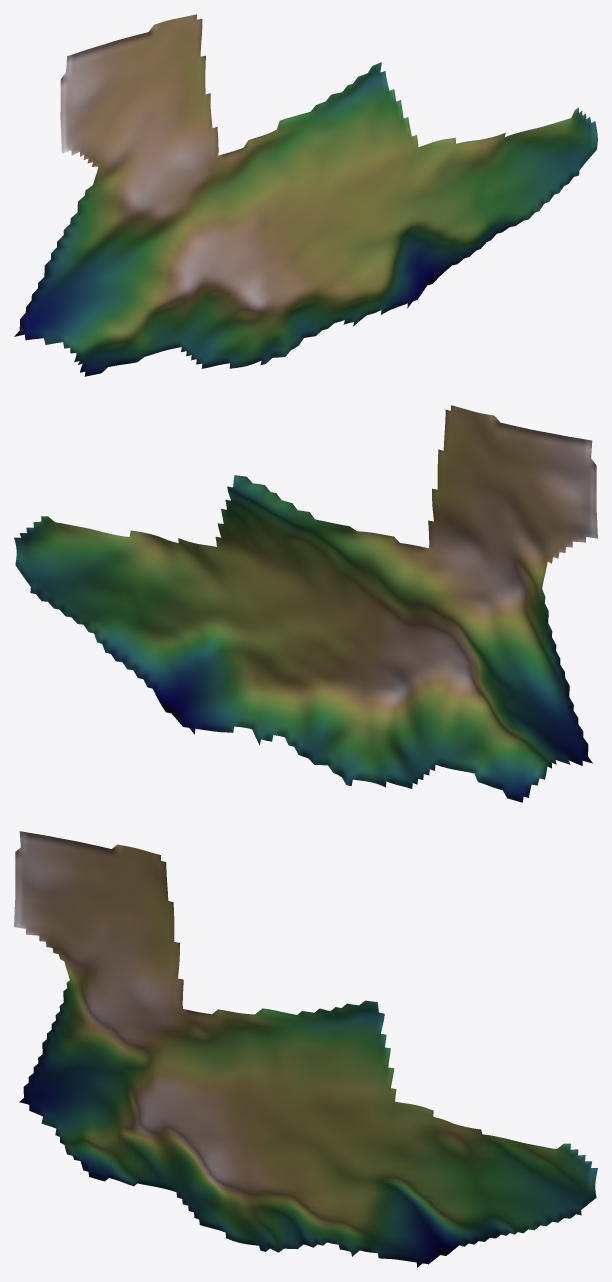
The model's file is tirumala_terrain_relief.glb.
3 renders of one model, top to bottom at view 1: azimuth 30°, elevation 25°; view 2: azimuth 150°, elevation 25°; view 3: azimuth 330°, elevation 25°, orthographic.
Parts seen in each view (by area): view 1: Tirumala_Terrain_Mesh; view 2: Tirumala_Terrain_Mesh; view 3: Tirumala_Terrain_Mesh.
Boxes of the visible parts, x1,y1,x2,y2 form: Tirumala_Terrain_Mesh: (14,14,597,376); Tirumala_Terrain_Mesh: (14,405,597,802); Tirumala_Terrain_Mesh: (14,831,597,1267).
Size of the model in its own units: 8560 by 5440 by 719.
Materials: 1 (1 with a texture image).
